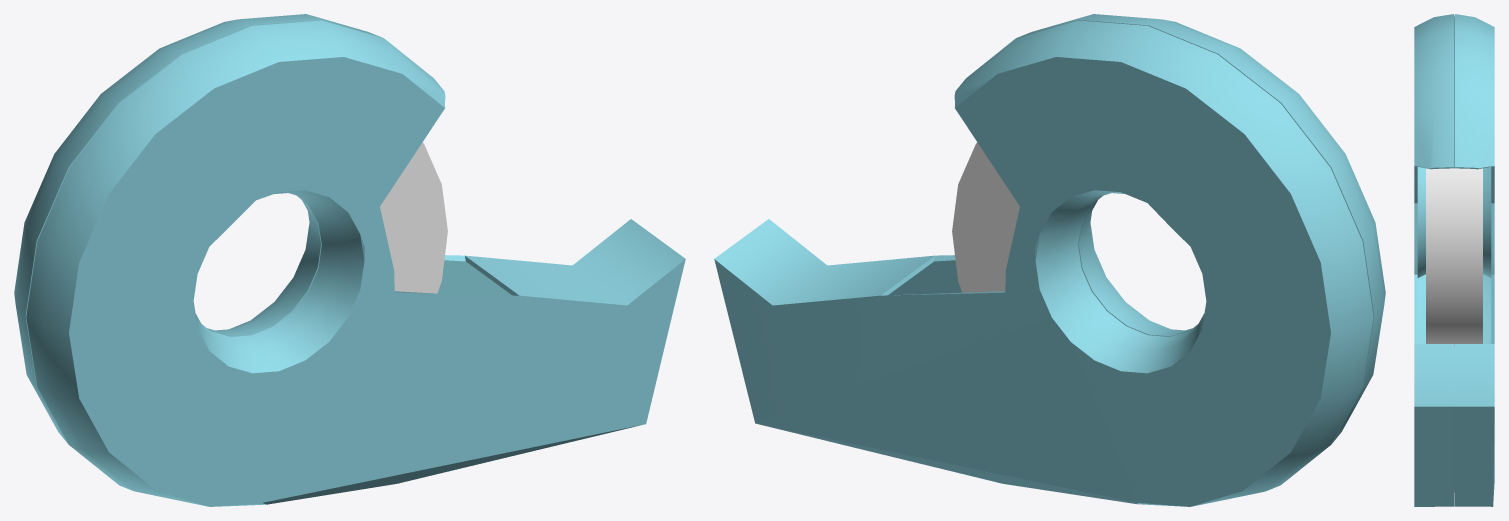
Rendered from TapeDispenser.fbx.
The picture shows the model from 3 angles, left to right: view 1: azimuth 30°, elevation 25°; view 2: azimuth 150°, elevation 25°; view 3: azimuth 270°, elevation 25°; orthographic projection. The views are drawn at different scales.
Visible parts, largest first — view 1: polySurface5, polySurface4; view 2: polySurface5, polySurface4; view 3: polySurface5, polySurface4.
Boxes of the visible parts, x1,y1,x2,y2 form: polySurface5: (14,14,685,506); polySurface4: (380,142,447,293); polySurface5: (714,14,1385,506); polySurface4: (952,142,1019,292); polySurface5: (1414,14,1494,506); polySurface4: (1426,168,1482,346).
Size of the model in its own units: 15.98 by 11.32 by 2.4.
